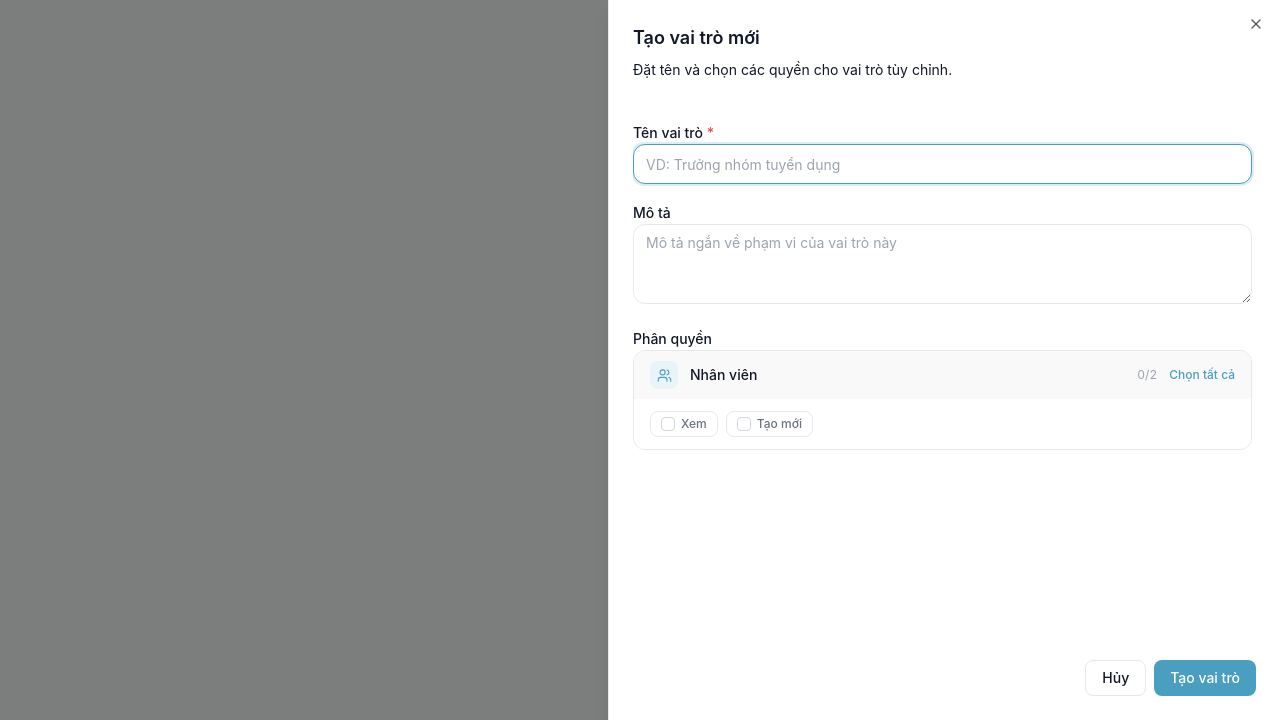
Test case: RoleFormSheet › blocks submission and shows an error when the name is empty
Step 1. Click the button "Tạo vai trò" → (1205, 678), box [1154, 660, 1256, 696]
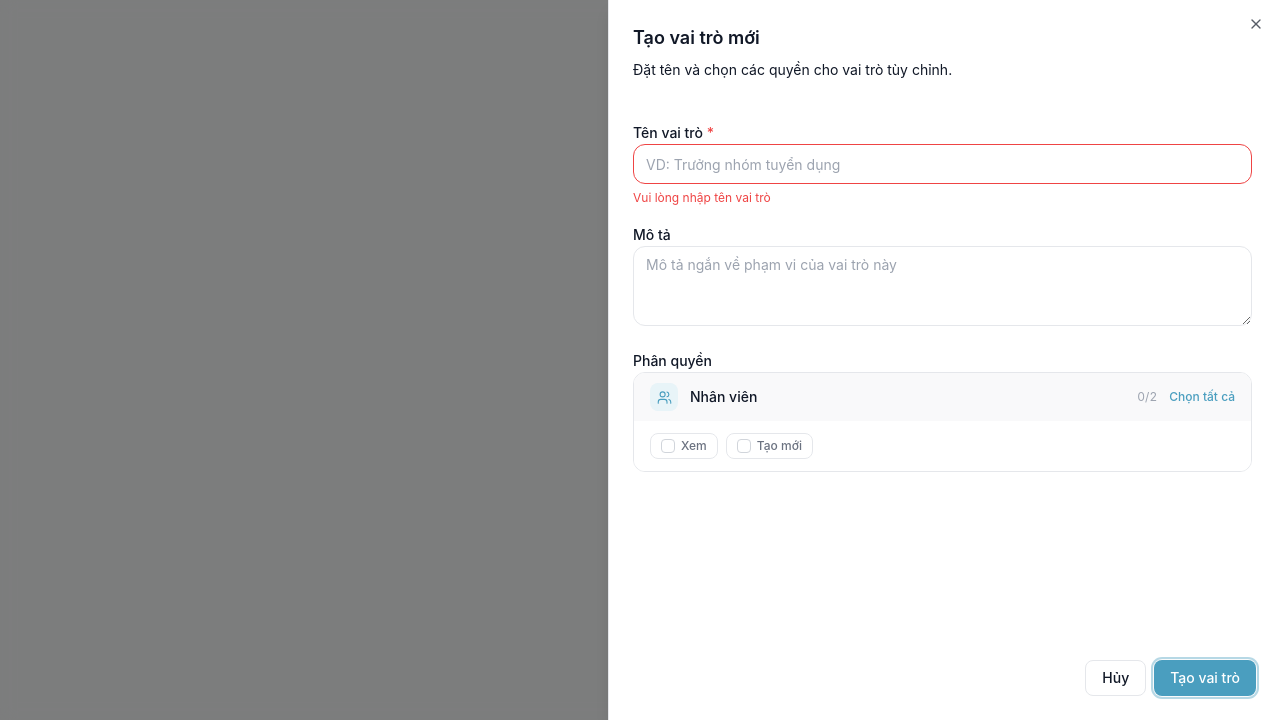
Check: the text "Vui lòng nhập tên vai trò" is shown, box [633, 190, 771, 205]
